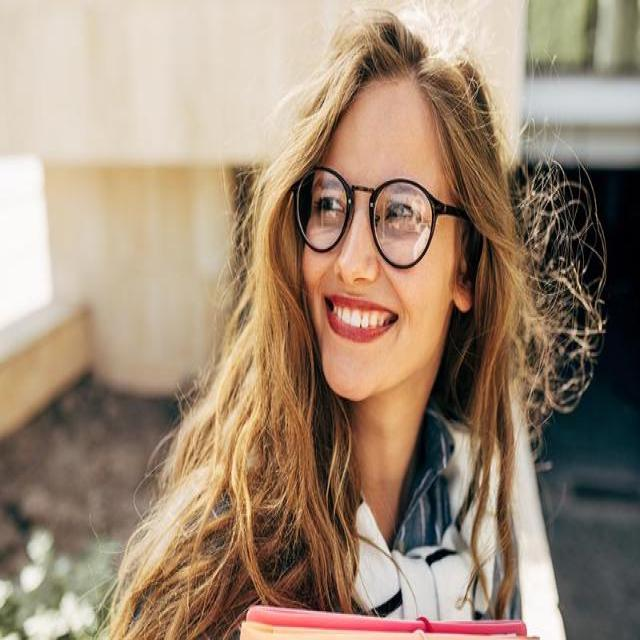glasses: (295, 168, 467, 269)
